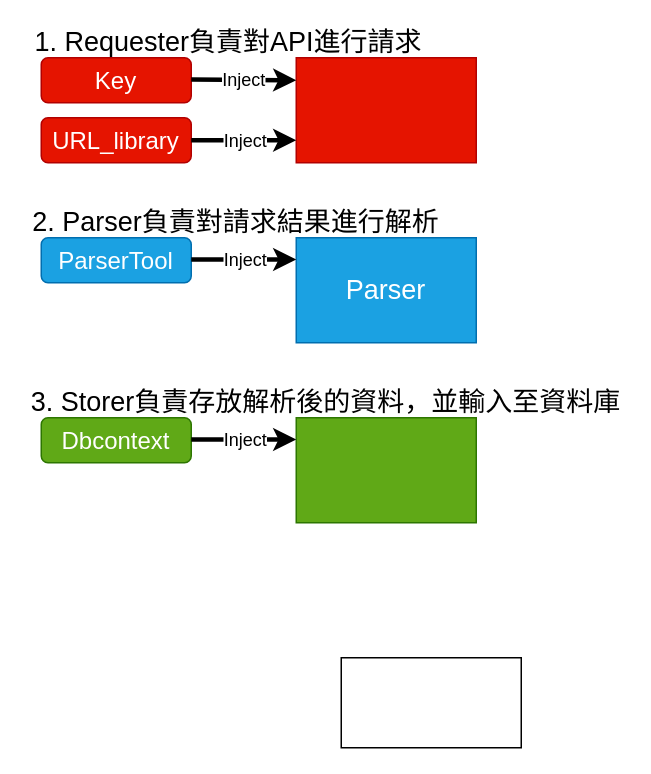
This 651x774 diagram has some shape labels left out. Each missing label, with the box of its shape:
Constructer: (340, 656, 521, 748)
Requester: (295, 56, 476, 163)
Storer: (295, 416, 476, 523)
